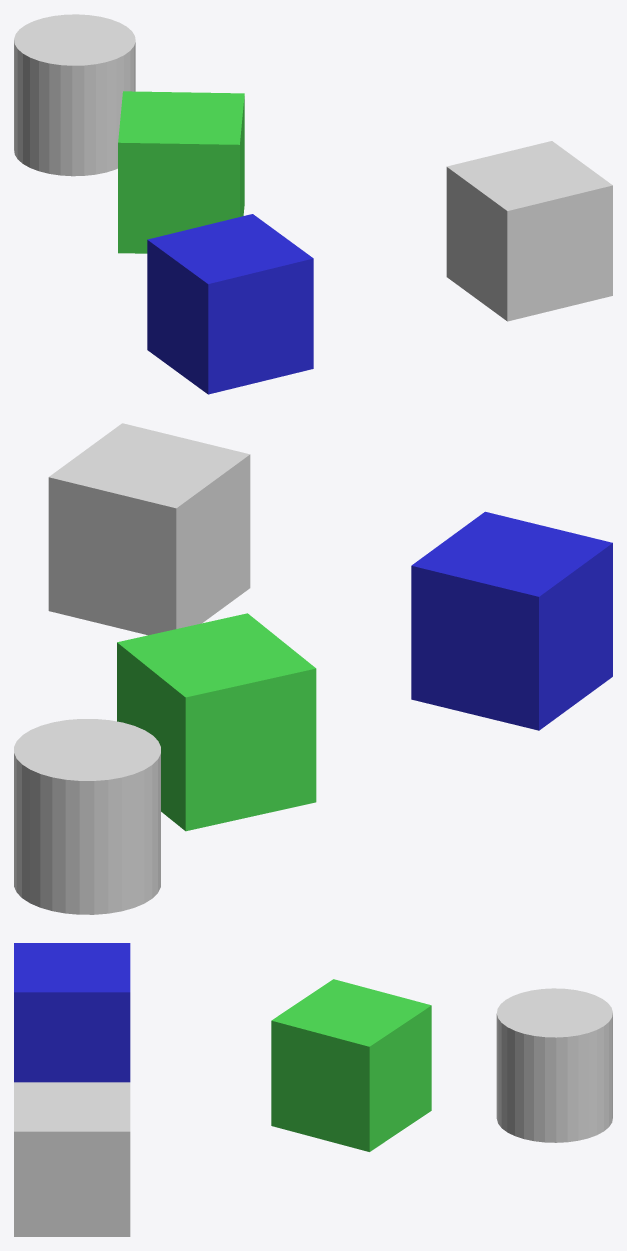
File: normal.glb
3 views of the same model, one above another, from view 1: azimuth 30°, elevation 25°; view 2: azimuth 150°, elevation 25°; view 3: azimuth 270°, elevation 25° (orthographic). The views are drawn at different scales.
Visible parts, largest first — view 1: Cube.001, Cube, Cube.002, Cylinder; view 2: Cube.001, Cube, Cube.002, Cylinder; view 3: Cube.002, Cube, Cylinder, Cube.001.
Part boxes in pixels (<box>): Cube.001: <box>147,214,313,394</box>; Cube: <box>446,141,612,321</box>; Cube.002: <box>118,91,244,253</box>; Cylinder: <box>14,14,135,176</box>; Cube.001: <box>411,511,612,730</box>; Cube: <box>48,423,250,635</box>; Cube.002: <box>117,613,316,831</box>; Cylinder: <box>14,719,160,914</box>; Cube.002: <box>271,979,431,1151</box>; Cube: <box>14,1082,130,1236</box>; Cylinder: <box>496,988,612,1142</box>; Cube.001: <box>14,943,130,1082</box>.
Bounding box in the file's own units: 7.67 × 2 × 10.3.
